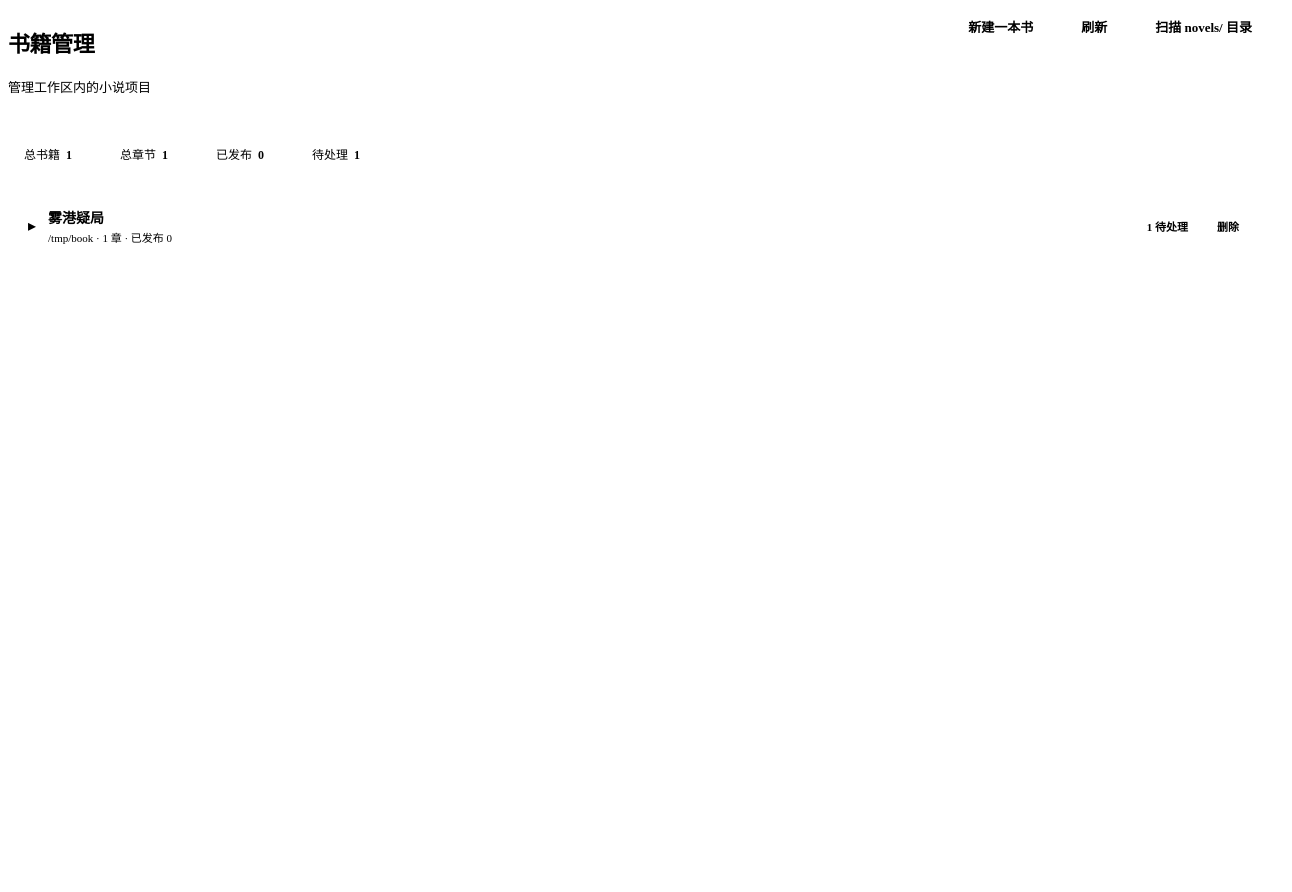
BooksPage session model › opens a readable context section from the book session panel
This screenshot has width=1292, height=892.
Step 1. Click the text "雾港疑局" → (76, 218), box [48,210,104,226]
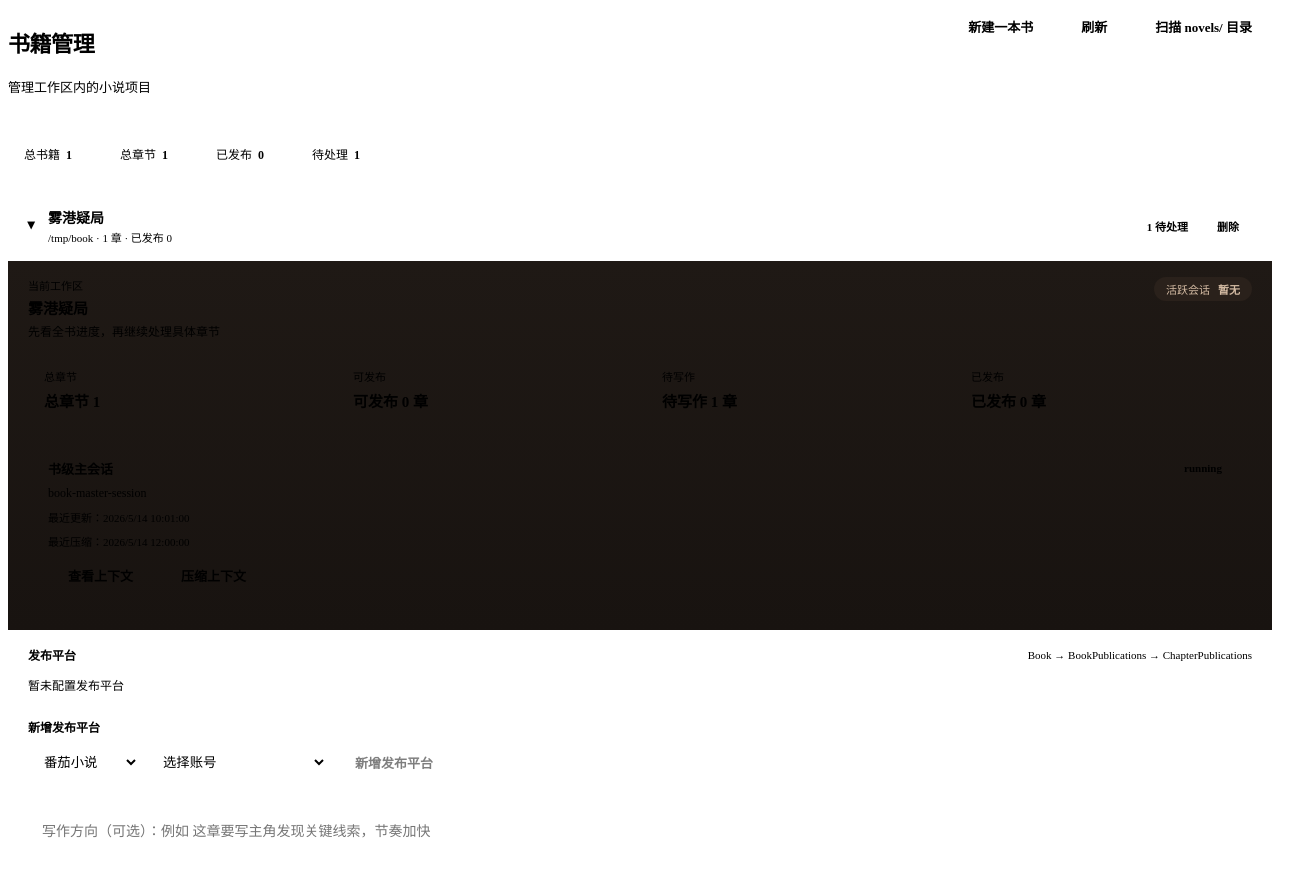
Step 2. Click the button "查看上下文" → (100, 575), box [48,556,153,594]
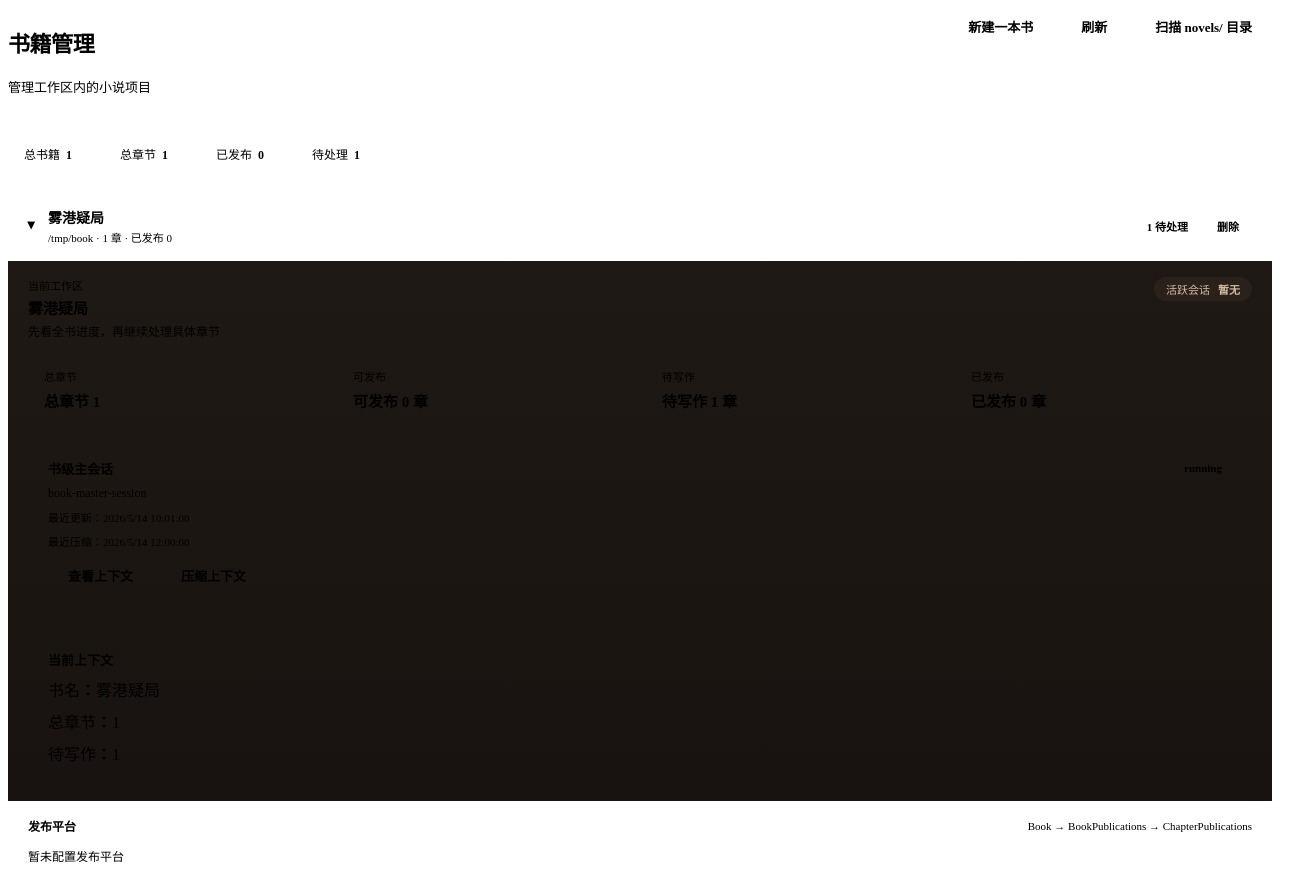
expect the text "当前上下文" is shown: met, box [48,652,113,668]
